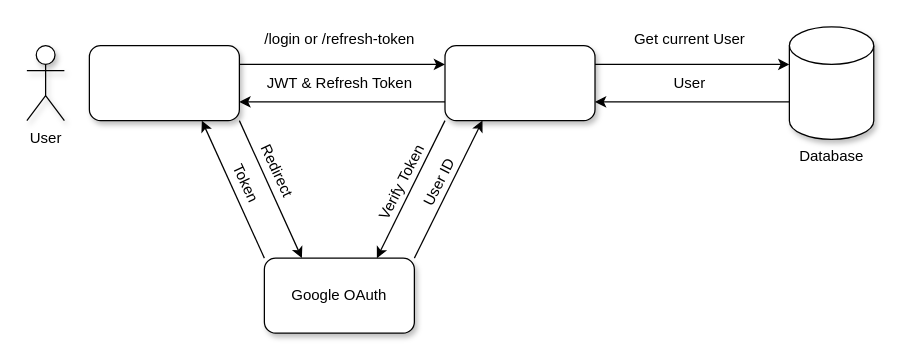
The diagram is 904 pixels wide and 364 high, and some of its shapes have lost their labels. The shapes that lost their labels are listed below. From the top down, each one's centre as x and y in pixels, then its label:
At [165,84]: "Next.js App".
At [520,84]: "FastAPI Server".
